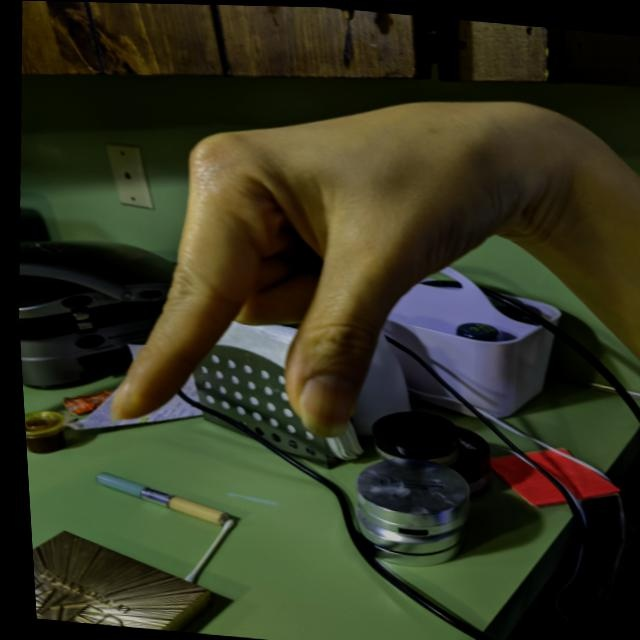Q: (73, 49, 530, 460)
